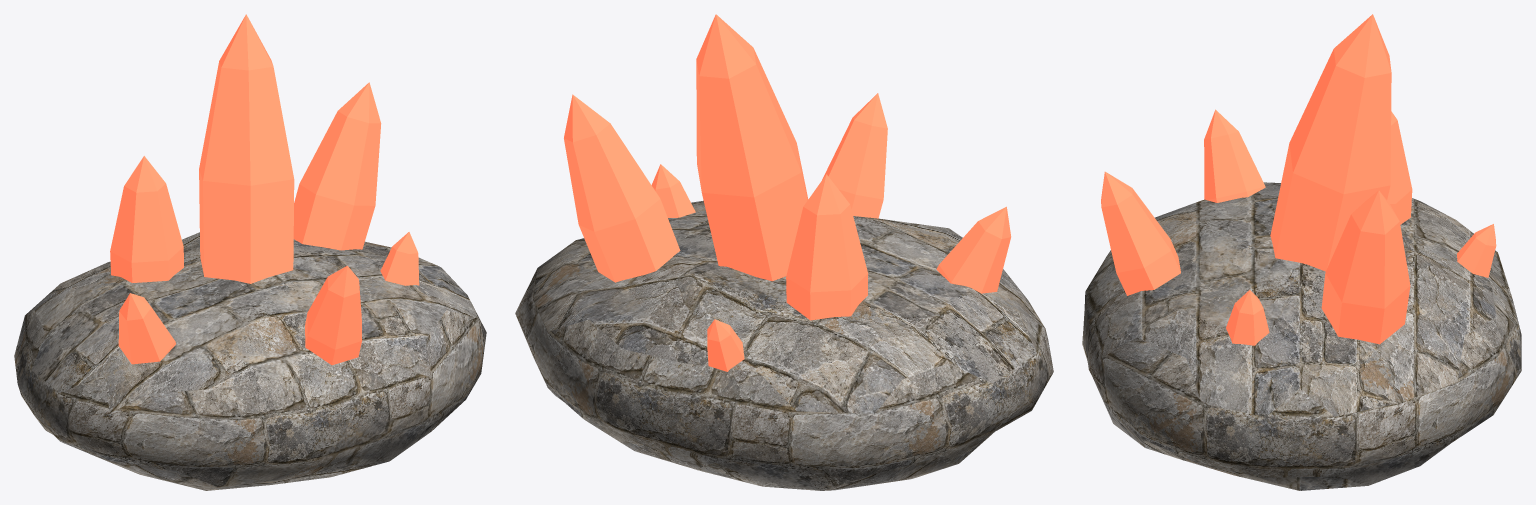
The model's file is ember-crystal-cluster-v01.glb.
The picture shows the model from 3 angles, left to right: view 1: azimuth 30°, elevation 25°; view 2: azimuth 150°, elevation 25°; view 3: azimuth 270°, elevation 25°; orthographic projection. The views are drawn at different scales.
Visible parts, largest first — view 1: ember-crystal-cluster; view 2: ember-crystal-cluster; view 3: ember-crystal-cluster.
Boxes of the visible parts, x1,y1,x2,y2 form: ember-crystal-cluster: [14, 14, 486, 490]; ember-crystal-cluster: [515, 14, 1053, 490]; ember-crystal-cluster: [1082, 14, 1521, 490].
Size of the model in its own units: 1.95 by 1.67 by 1.61.
Materials: 2 (1 with a texture image).
